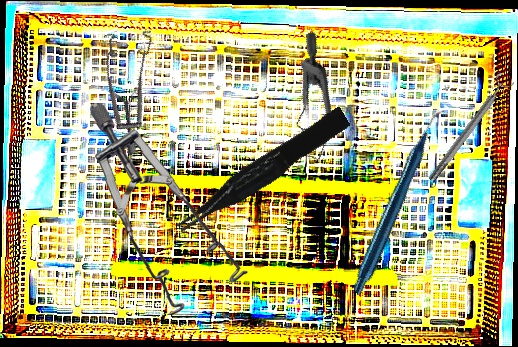Fixation Ring: (422, 71, 516, 186)
Handpiece: (298, 109, 503, 296)
Speculum: (80, 102, 257, 318), (242, 30, 370, 172), (72, 15, 199, 156)
Tissue Forceps: (167, 106, 356, 236)
